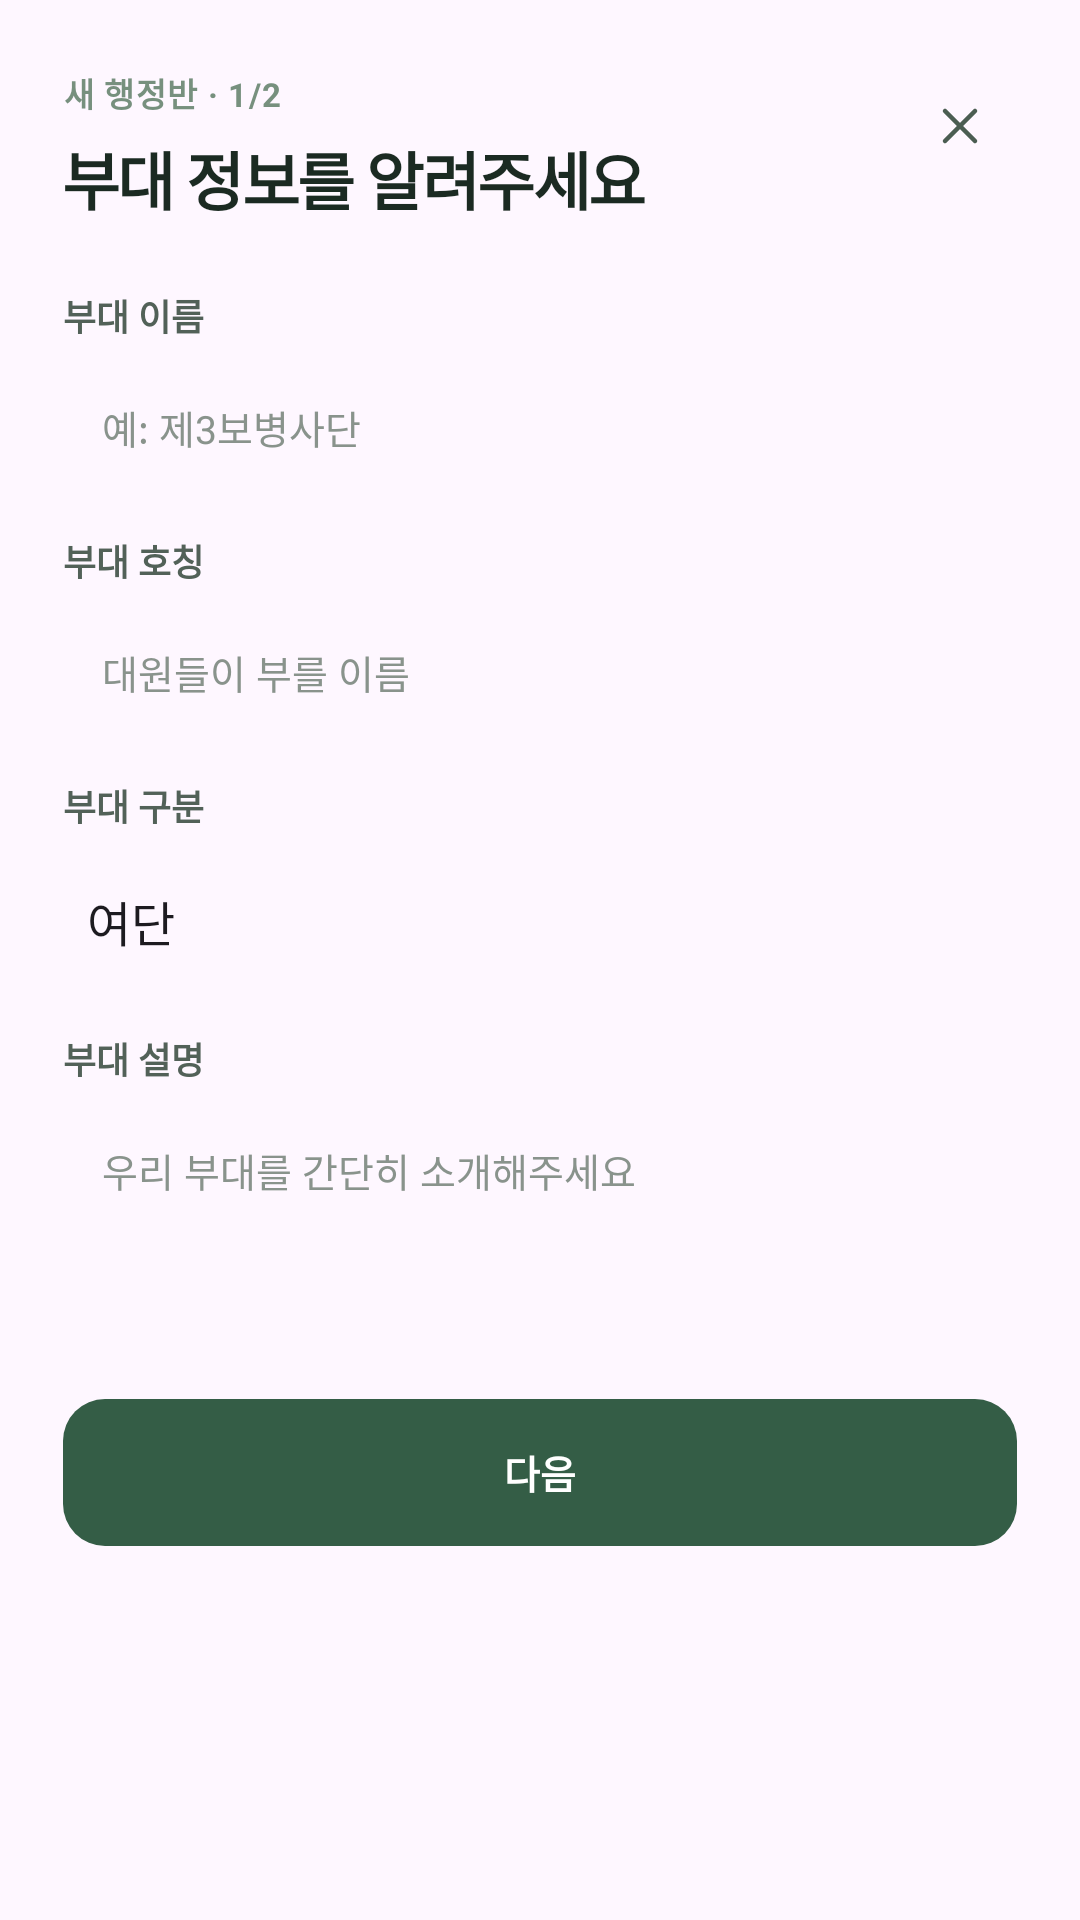

Icon bounding boxes for this 1080 × 1920 phone screenshot, format [x1=x1, y1=y1, x2=x2, y2=y2]:
닫기: [x1=943, y1=108, x2=977, y2=144]
